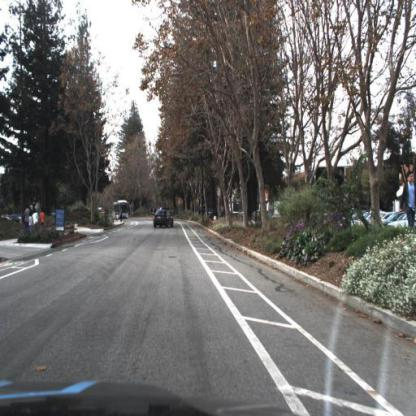car: (154, 211, 175, 228)
pedestrian: (400, 169, 416, 234), (24, 204, 32, 235), (23, 203, 30, 231), (33, 209, 39, 230), (29, 212, 33, 236), (40, 209, 46, 225), (30, 211, 34, 229), (105, 206, 109, 224), (120, 209, 124, 225)
truck: (115, 201, 131, 219)
